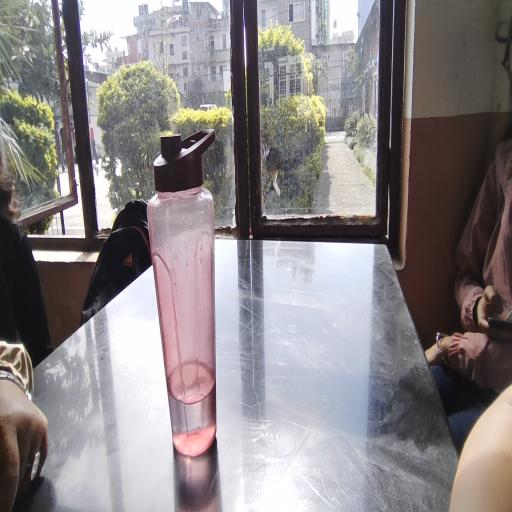Bottle: (143, 159, 247, 448)
